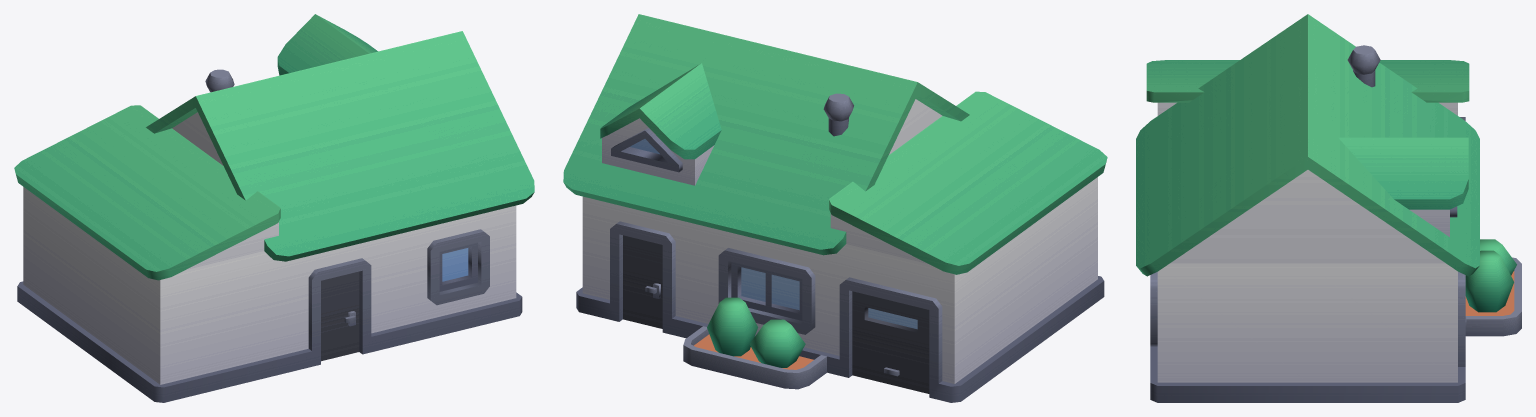
Rendered from building-type-i.draco.glb.
The picture shows the model from 3 angles, left to right: view 1: azimuth 30°, elevation 25°; view 2: azimuth 150°, elevation 25°; view 3: azimuth 270°, elevation 25°; orthographic projection. The views are drawn at different scales.
Visible parts, largest first — view 1: building-type-i; view 2: building-type-i; view 3: building-type-i.
Part boxes in pixels (x1,y1,x2,y2): building-type-i: (14, 14, 534, 402); building-type-i: (563, 14, 1107, 402); building-type-i: (1136, 14, 1521, 402).
Size of the model in its own units: 1.29 by 0.7375 by 1.03.
Materials: 1 (1 with a texture image).
